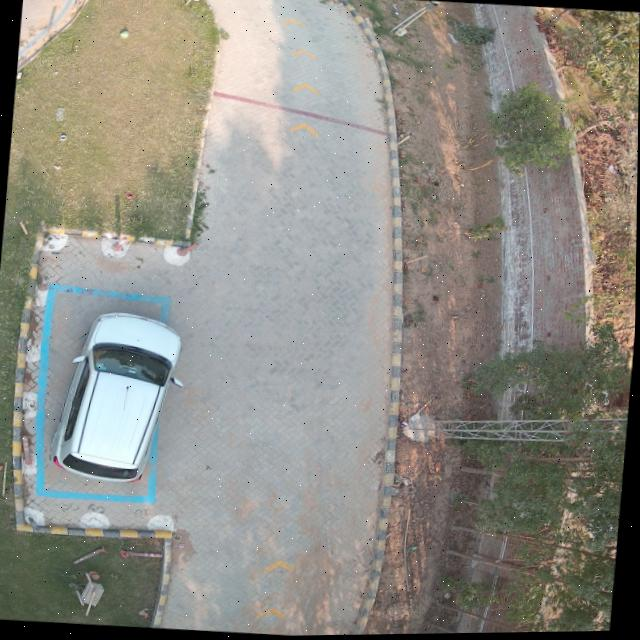car: (52, 312, 182, 483)
